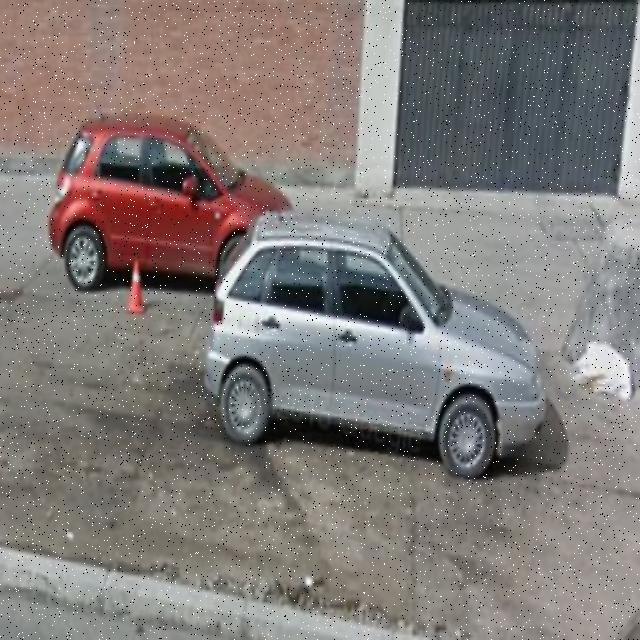cars: (217, 229, 546, 489), (55, 109, 233, 298)
